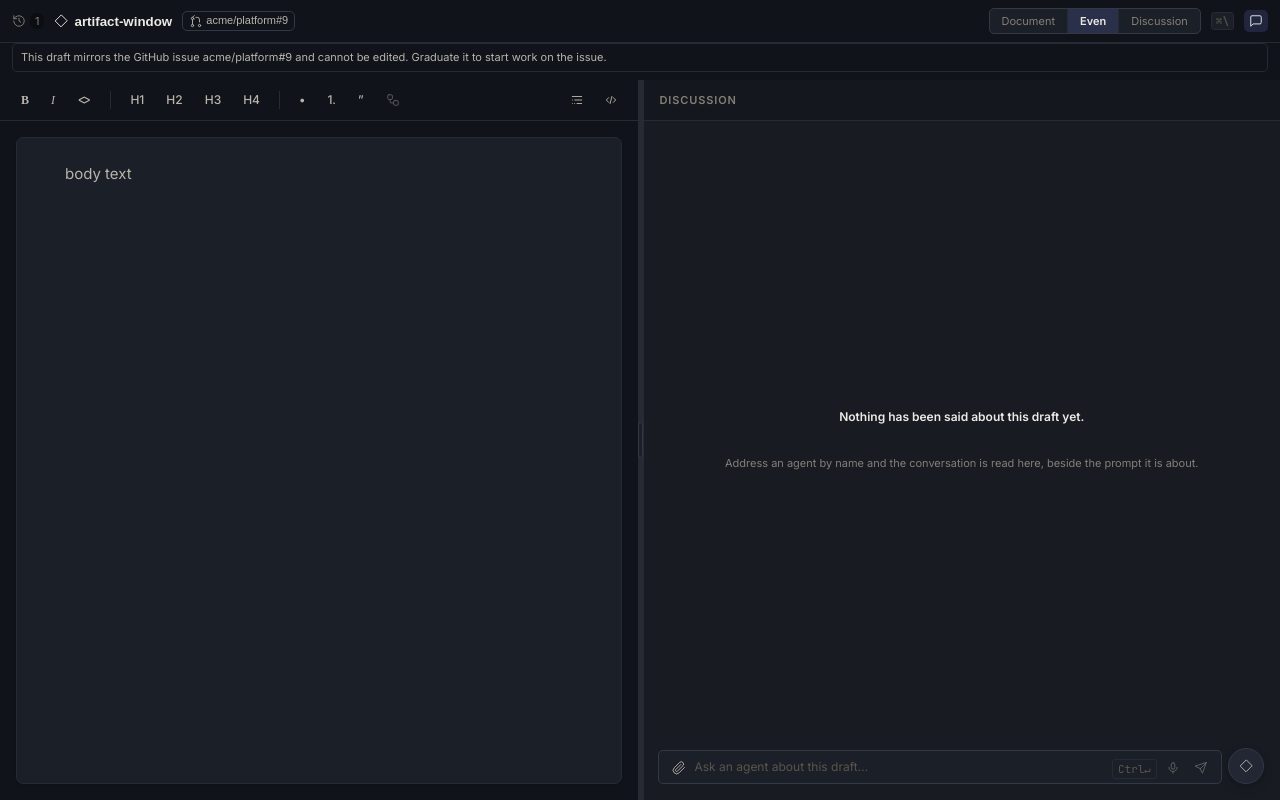
it: New Artifact workspace — a GitHub-shadow draft › NAW-FR-AXFQ, NAW-FR-FJXX: Graduate and Copy as Source are the only enabled actions; the rest state why not
Expected: the text with test id "draft-github-shadow-banner" is shown, top-left (12, 43), bottom-right (1268, 72)
Step 1. Click the button named "Draft actions" → (1246,766), box top-left (1228, 748), bottom-right (1264, 784)
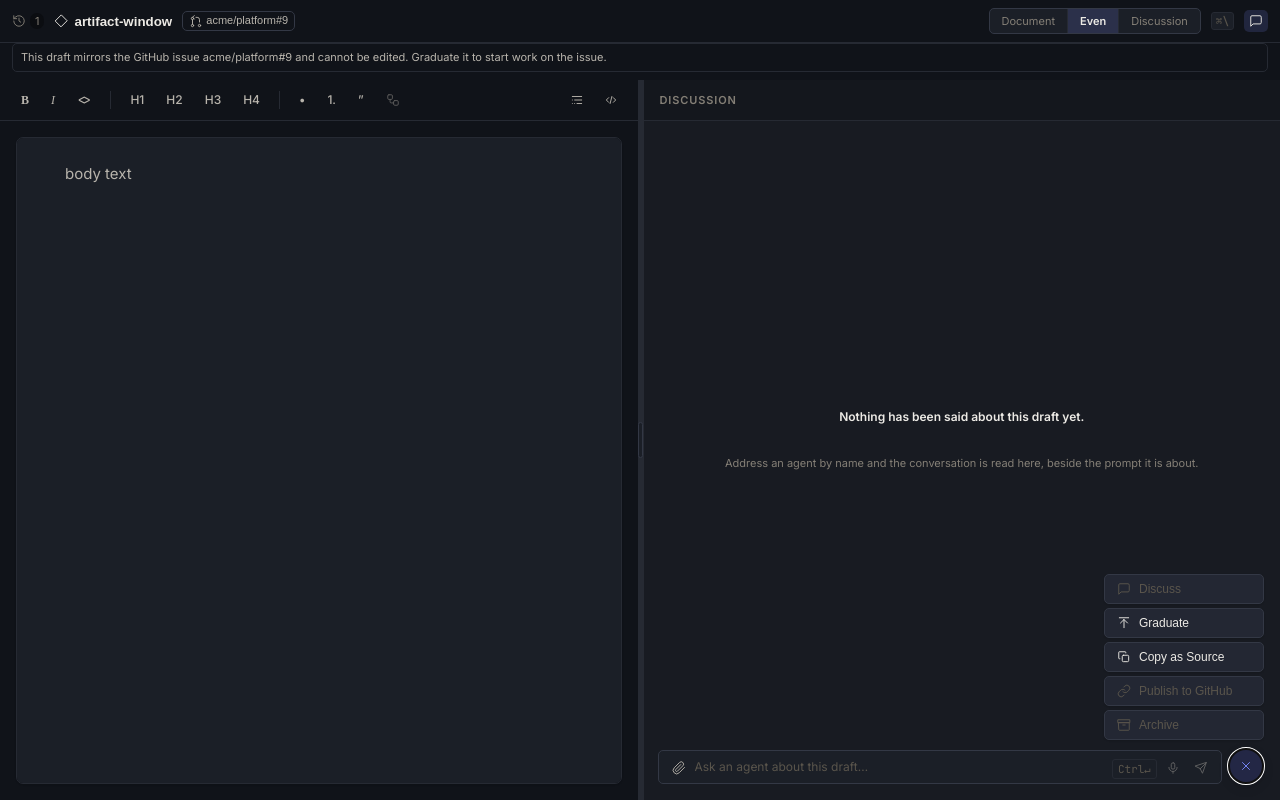
Now the menu item "Graduate" is enabled, box top-left (1104, 608), bottom-right (1264, 638)
Now the menu item "Copy as Source" is enabled, box top-left (1104, 642), bottom-right (1264, 672)
Now the menu item "Discuss" is disabled, box top-left (1104, 574), bottom-right (1264, 604)
